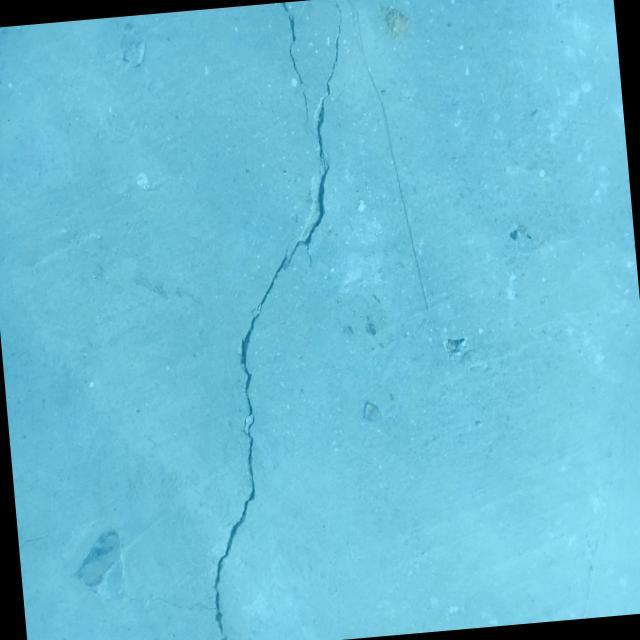crack: (103, 0, 396, 640), (280, 0, 310, 136), (18, 534, 52, 548)
